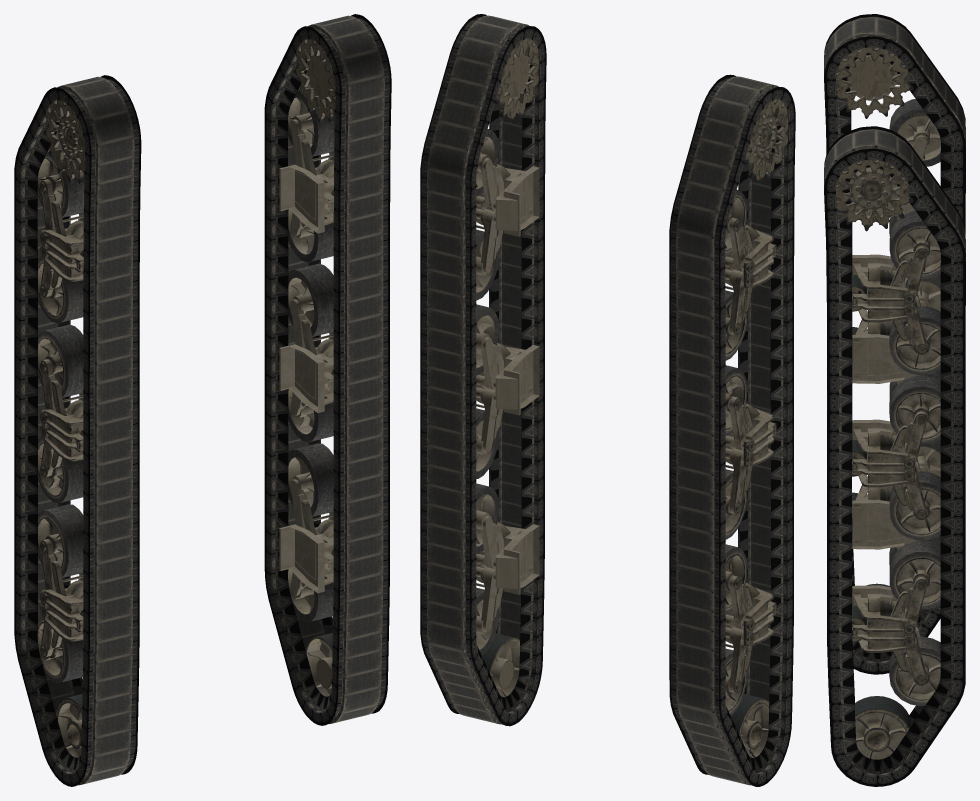
The model's file is Chassis.glb.
The picture shows the model from 3 angles, left to right: view 1: azimuth 30°, elevation 25°; view 2: azimuth 150°, elevation 25°; view 3: azimuth 270°, elevation 25°; orthographic projection. The views are drawn at different scales.
Visible parts, largest first — view 1: set_0_group_0, set_1_group_0, set_3_group_0, set_2_group_0; view 2: set_0_group_0, set_1_group_0, set_3_group_0, set_2_group_0; view 3: set_1_group_0, set_3_group_0, set_2_group_0, set_0_group_0.
Part boxes in pixels (<box>): set_0_group_0: <box>14,75,141,786</box>; set_1_group_0: <box>264,14,391,725</box>; set_3_group_0: <box>279,39,335,696</box>; set_2_group_0: <box>37,100,84,757</box>; set_0_group_0: <box>669,74,795,786</box>; set_1_group_0: <box>420,14,546,726</box>; set_3_group_0: <box>476,38,539,697</box>; set_2_group_0: <box>725,99,788,757</box>; set_1_group_0: <box>824,126,965,786</box>; set_3_group_0: <box>836,159,940,759</box>; set_2_group_0: <box>836,47,940,641</box>; set_0_group_0: <box>824,14,965,674</box>.
Size of the model in its own units: 2.56 by 5.59 by 1.13.
4 materials, 4 textured.
